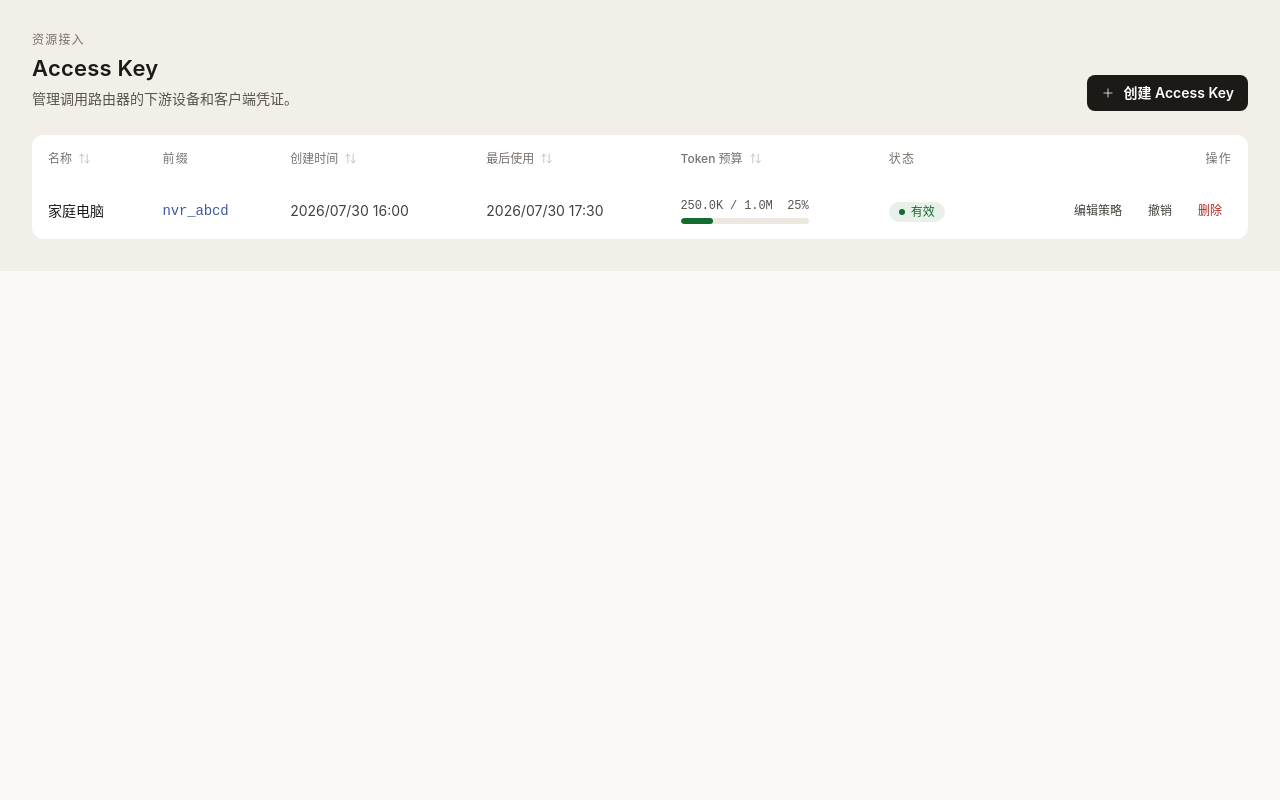
Test case: AccessKeysView › clears the temporary textarea after a failed legacy copy and keeps plaintext visible
The width and height of the screenshot is (1280, 800).
Click the button with test id "open-create-access-key". click: point(1168, 93)
box: top-left (1088, 75), bottom-right (1248, 111)
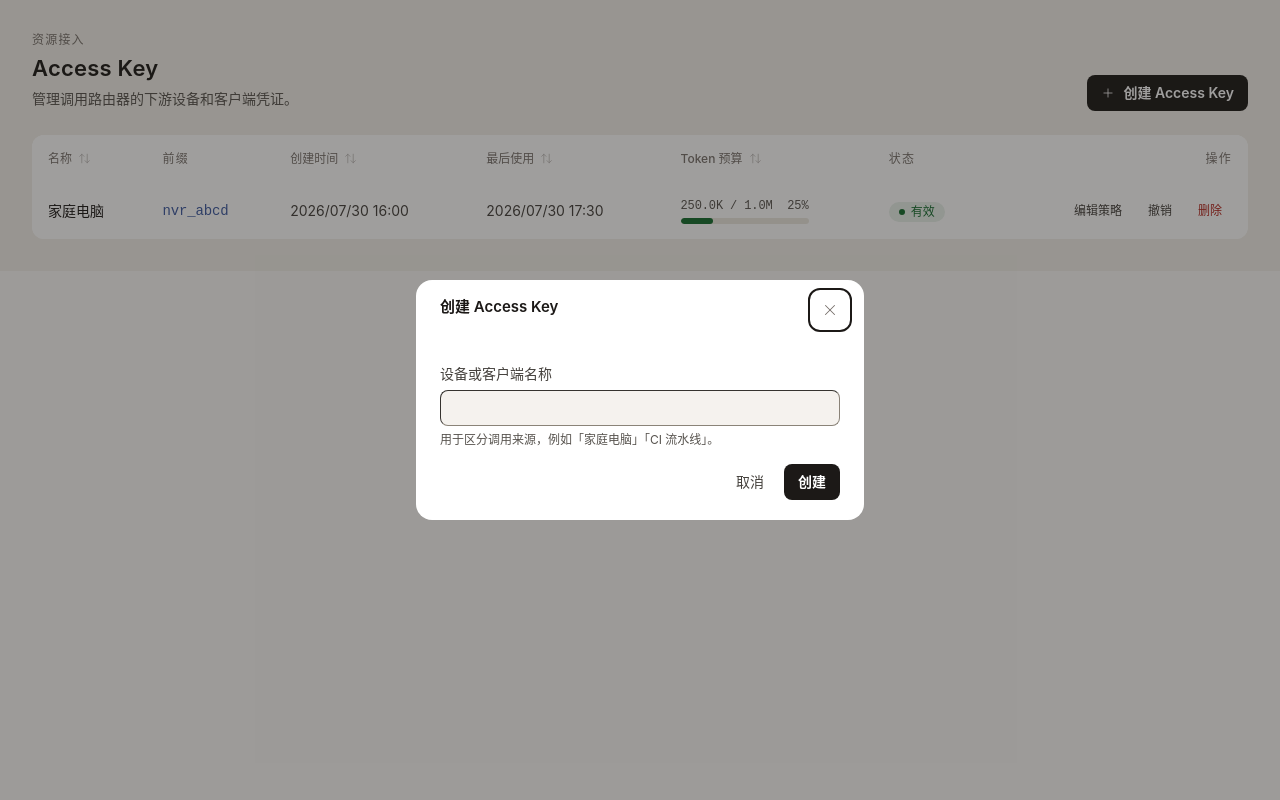
Type "CI" into the field with test id "access-key-name". click: point(640, 408)
box: top-left (440, 390), bottom-right (840, 426)
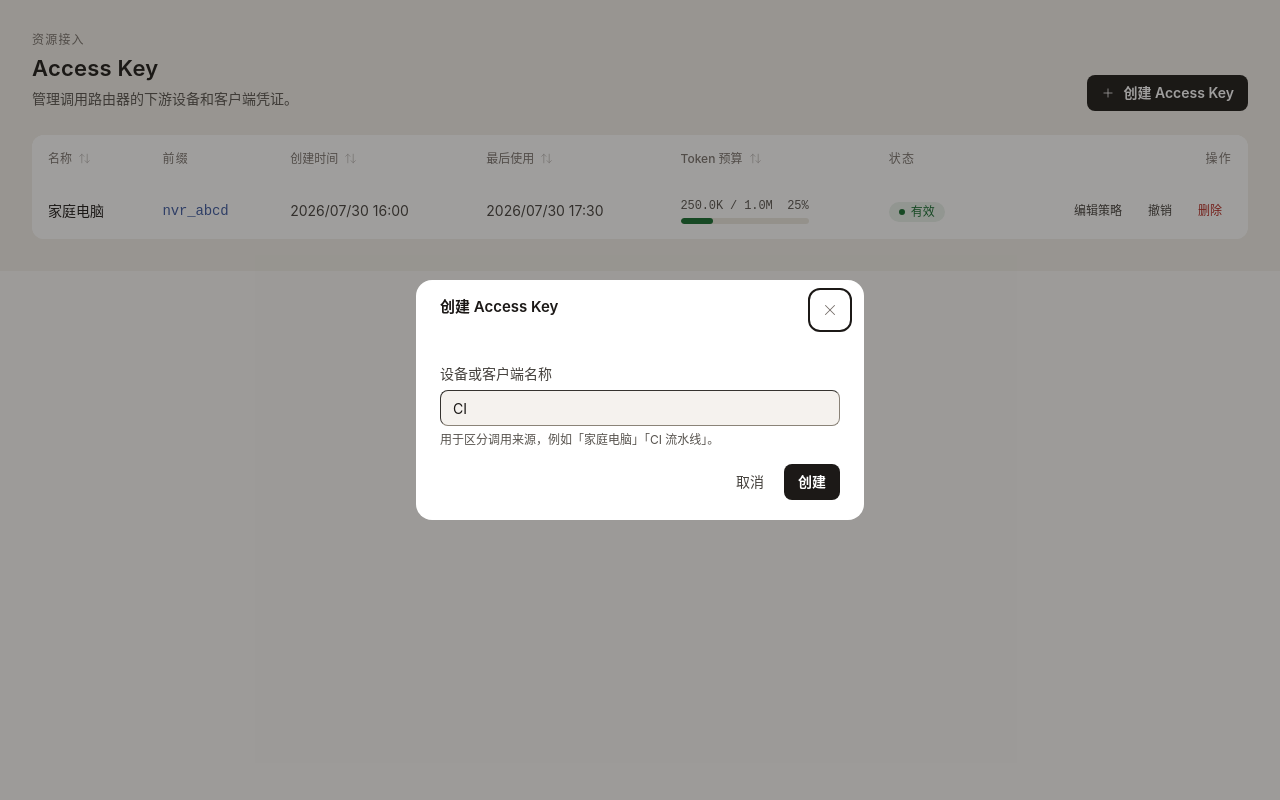
Submit the form with test id "create-access-key-form", box top-left (440, 364), bottom-right (840, 500)
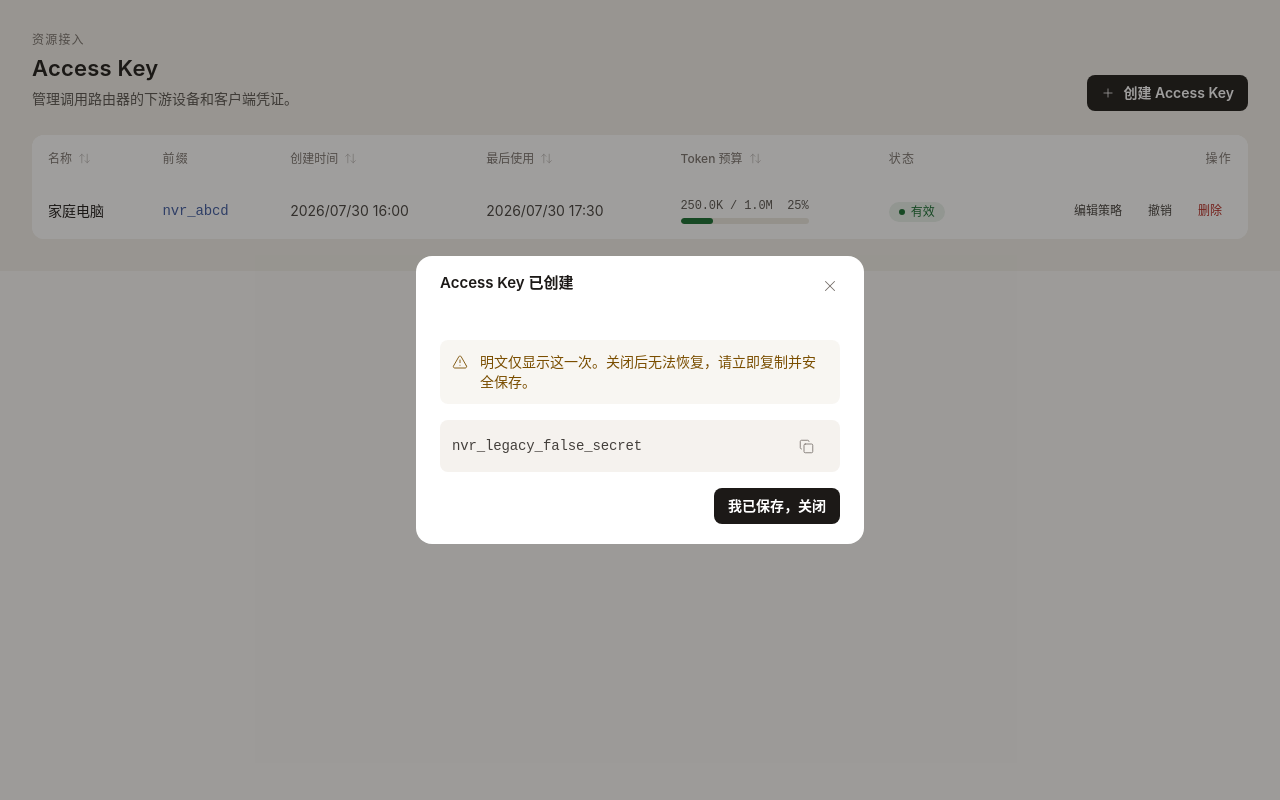
Click the button with test id "copy-created-access-key". click: point(806, 446)
box: top-left (790, 430), bottom-right (822, 462)
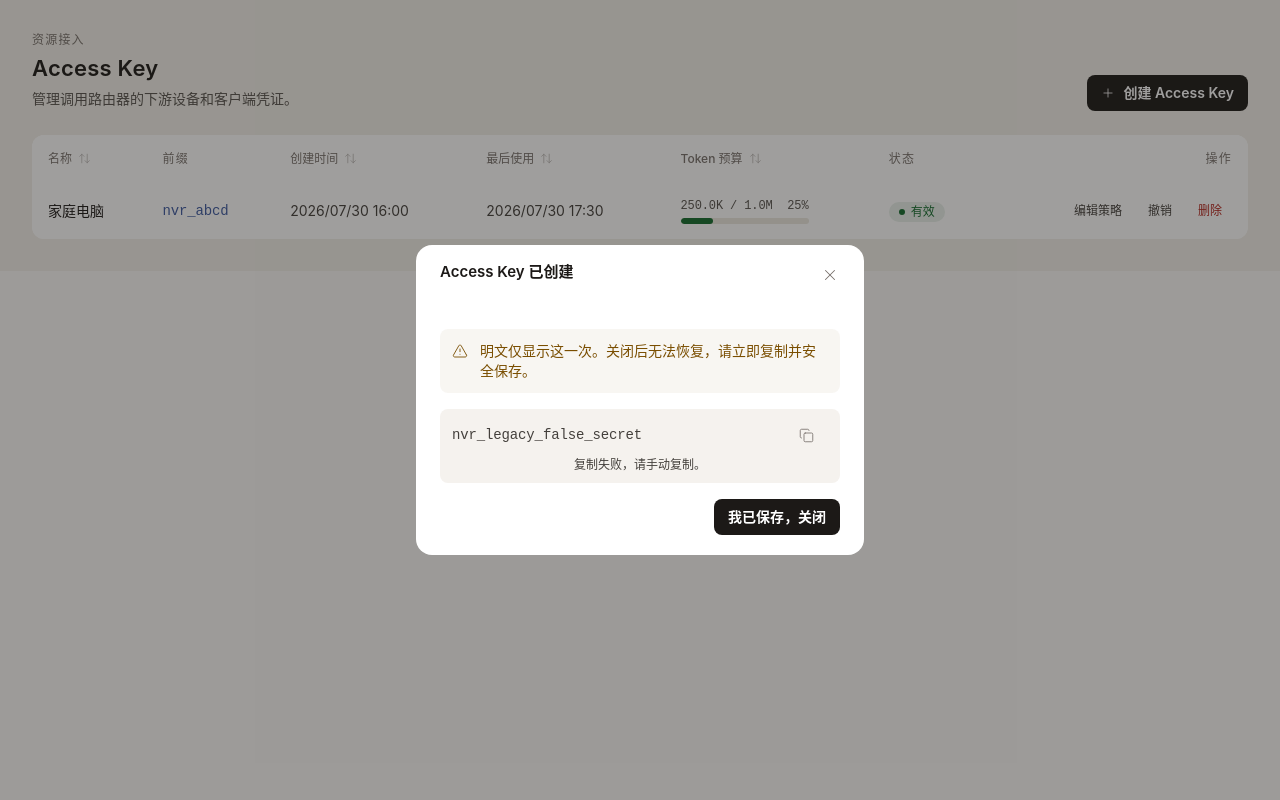
Expected: the element with test id "created-access-key" shows "nvr_legacy_false_secret", top-left (452, 427), bottom-right (642, 443)
Expected: the text "复制失败，请手动复制。" is shown, top-left (574, 457), bottom-right (706, 472)
